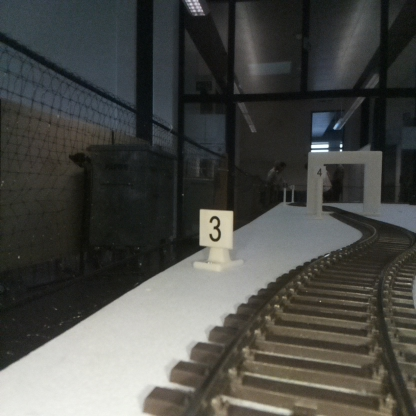white-stop-3: (199, 210, 233, 267)
